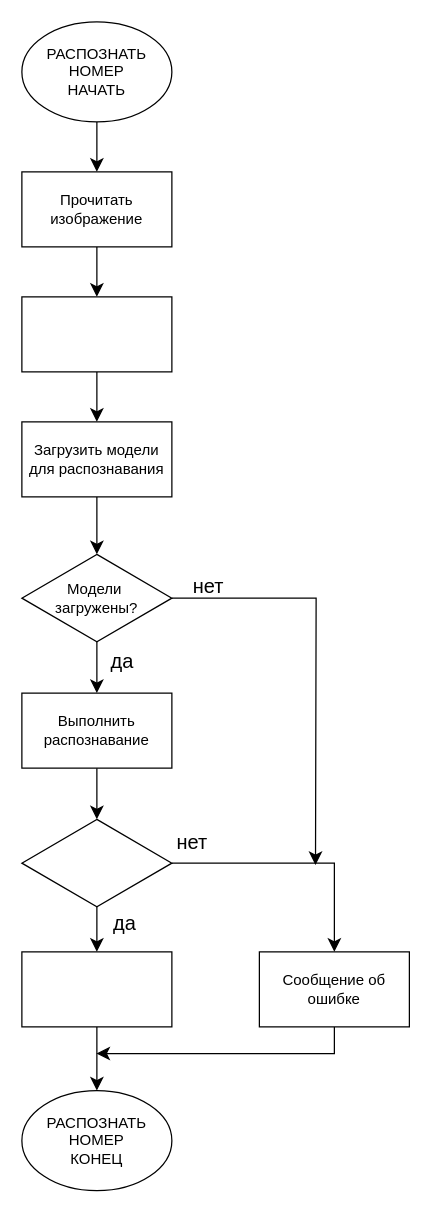
The diagram is 431 pixels wide and 1213 high, and some of its shapes have lost their labels. The shapes that lost their labels are listed below. From the top down, each one's box as (x1, y1, x2, y2) in pixels, then its label:
(21, 296, 172, 372): Преобразовать изображение
(21, 818, 172, 907): Формат верный?
(21, 951, 172, 1027): Вернуть распознанный текст
